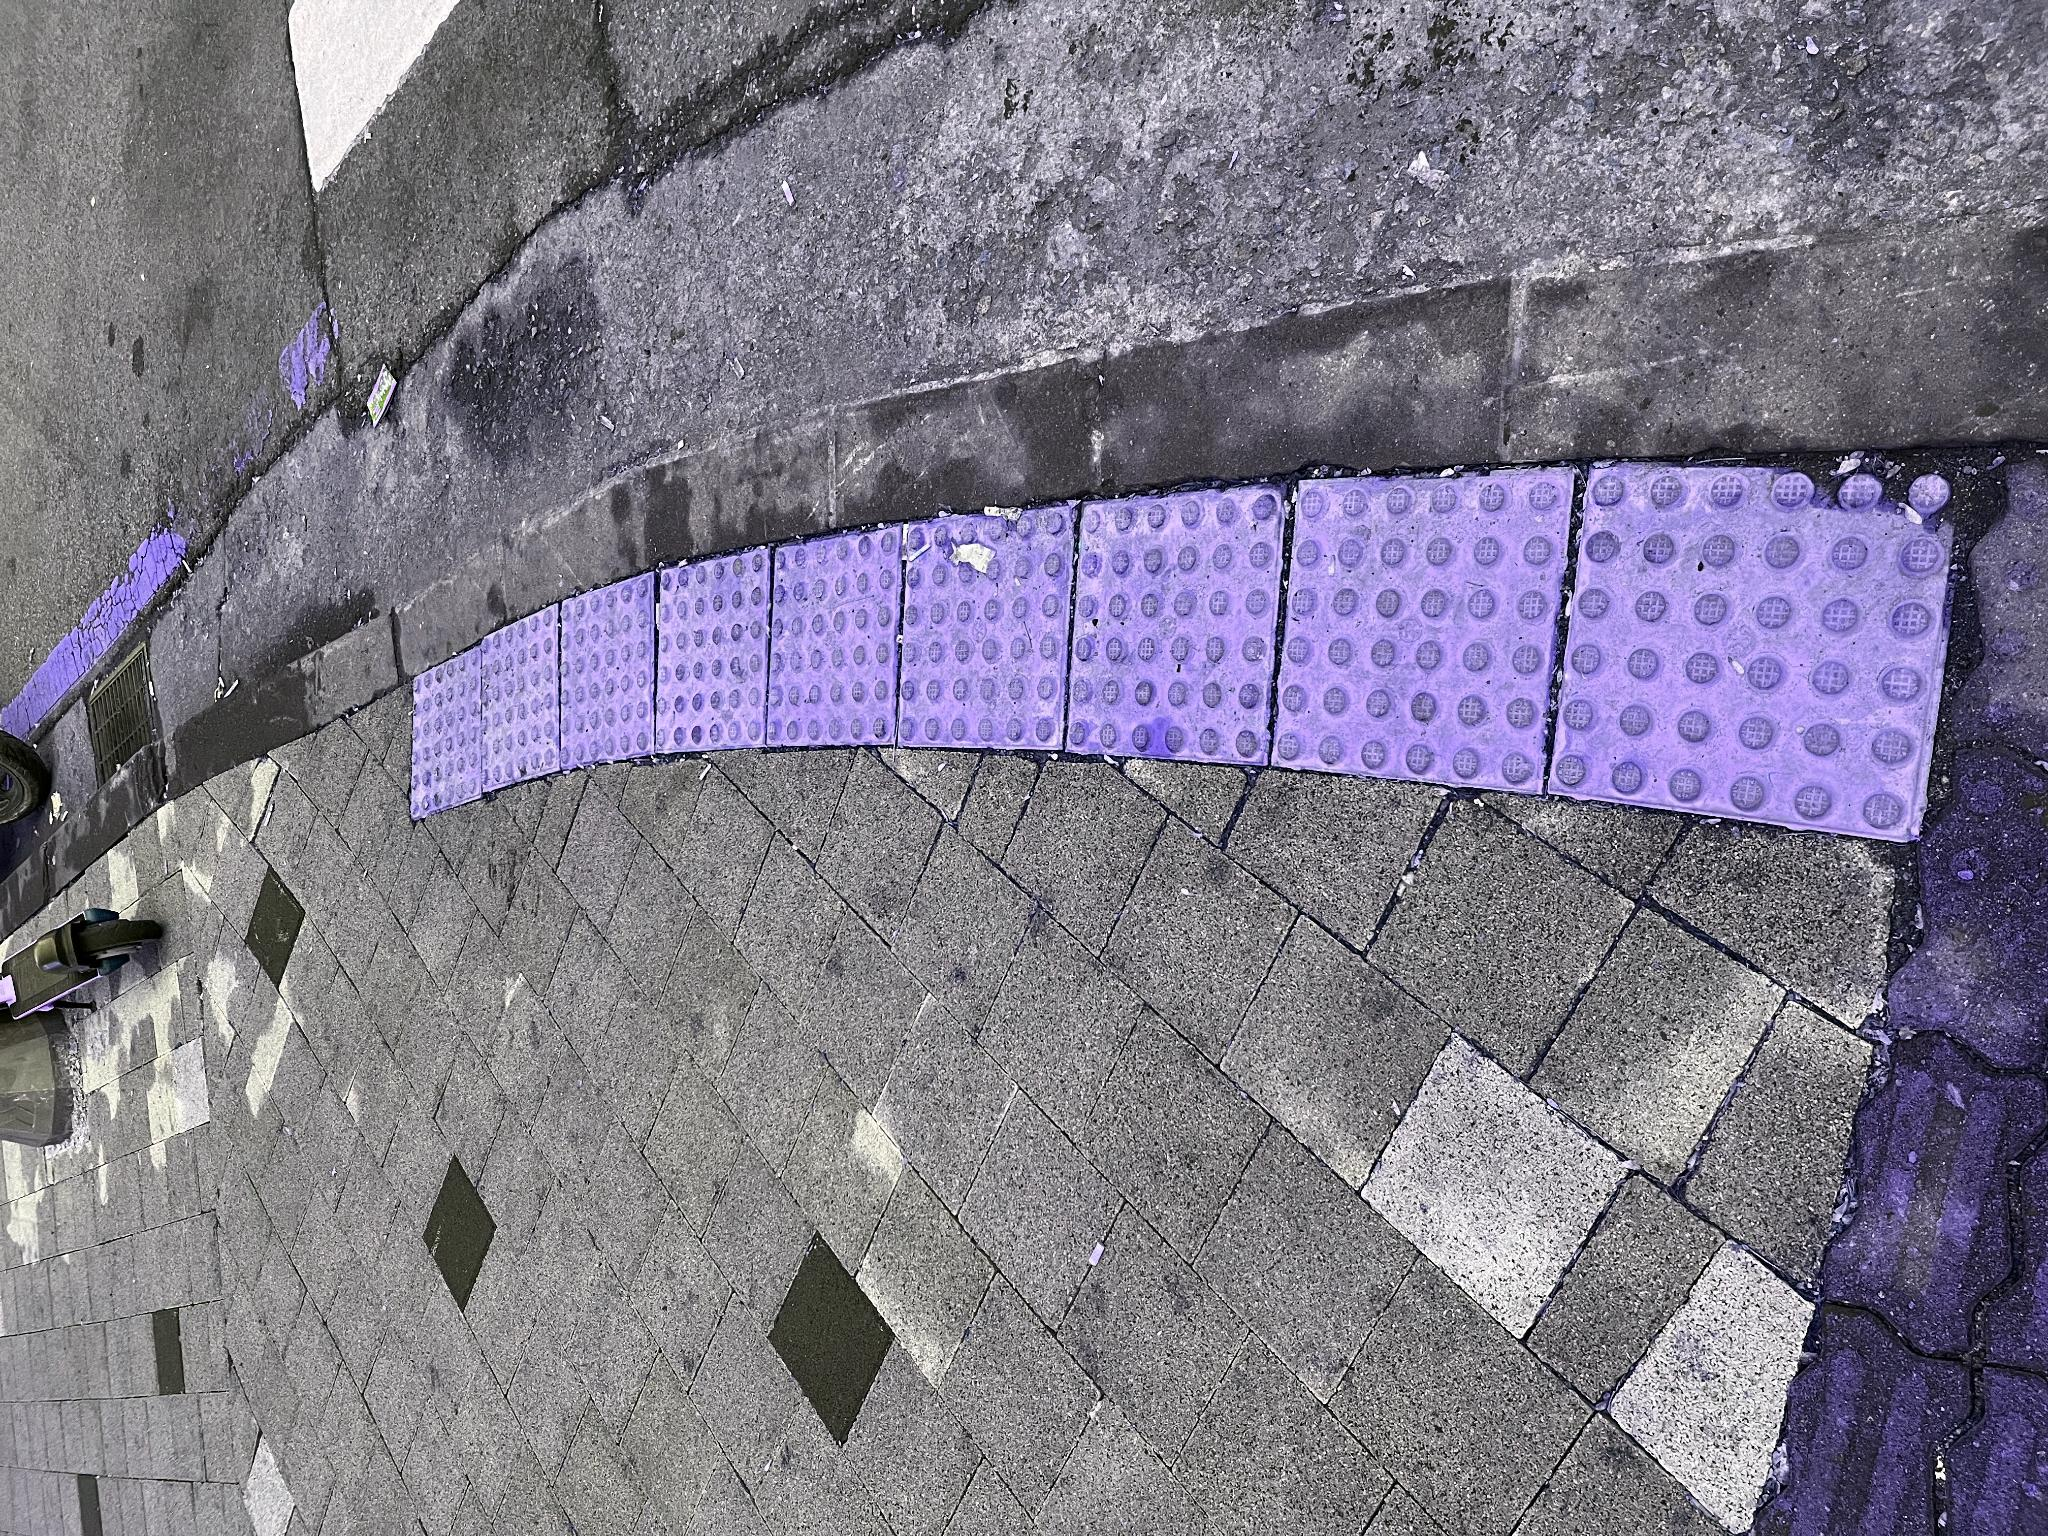Stop block broken: (787, 900, 1032, 1071)
Stop block normal: (743, 1275, 1064, 1536), (774, 1066, 1050, 1284), (790, 766, 1009, 897), (785, 657, 989, 766), (769, 563, 961, 653), (747, 484, 930, 558), (718, 411, 889, 479)
